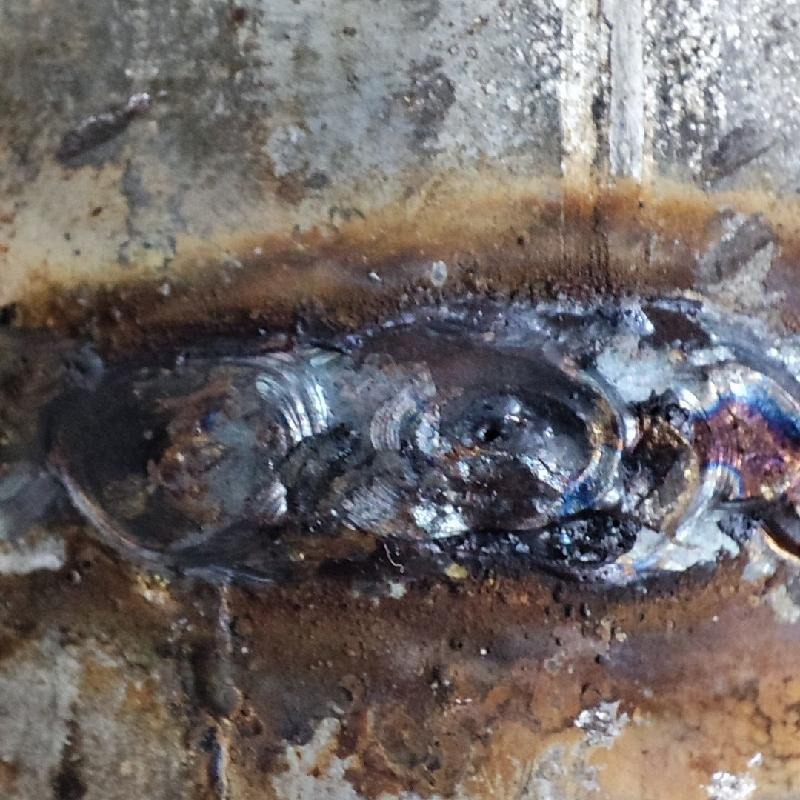Surface_pores: (466, 409, 520, 454)
crater: (363, 296, 799, 582)
wrong_size: (3, 317, 353, 588)
